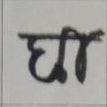i_matra: (63, 27, 88, 81)
